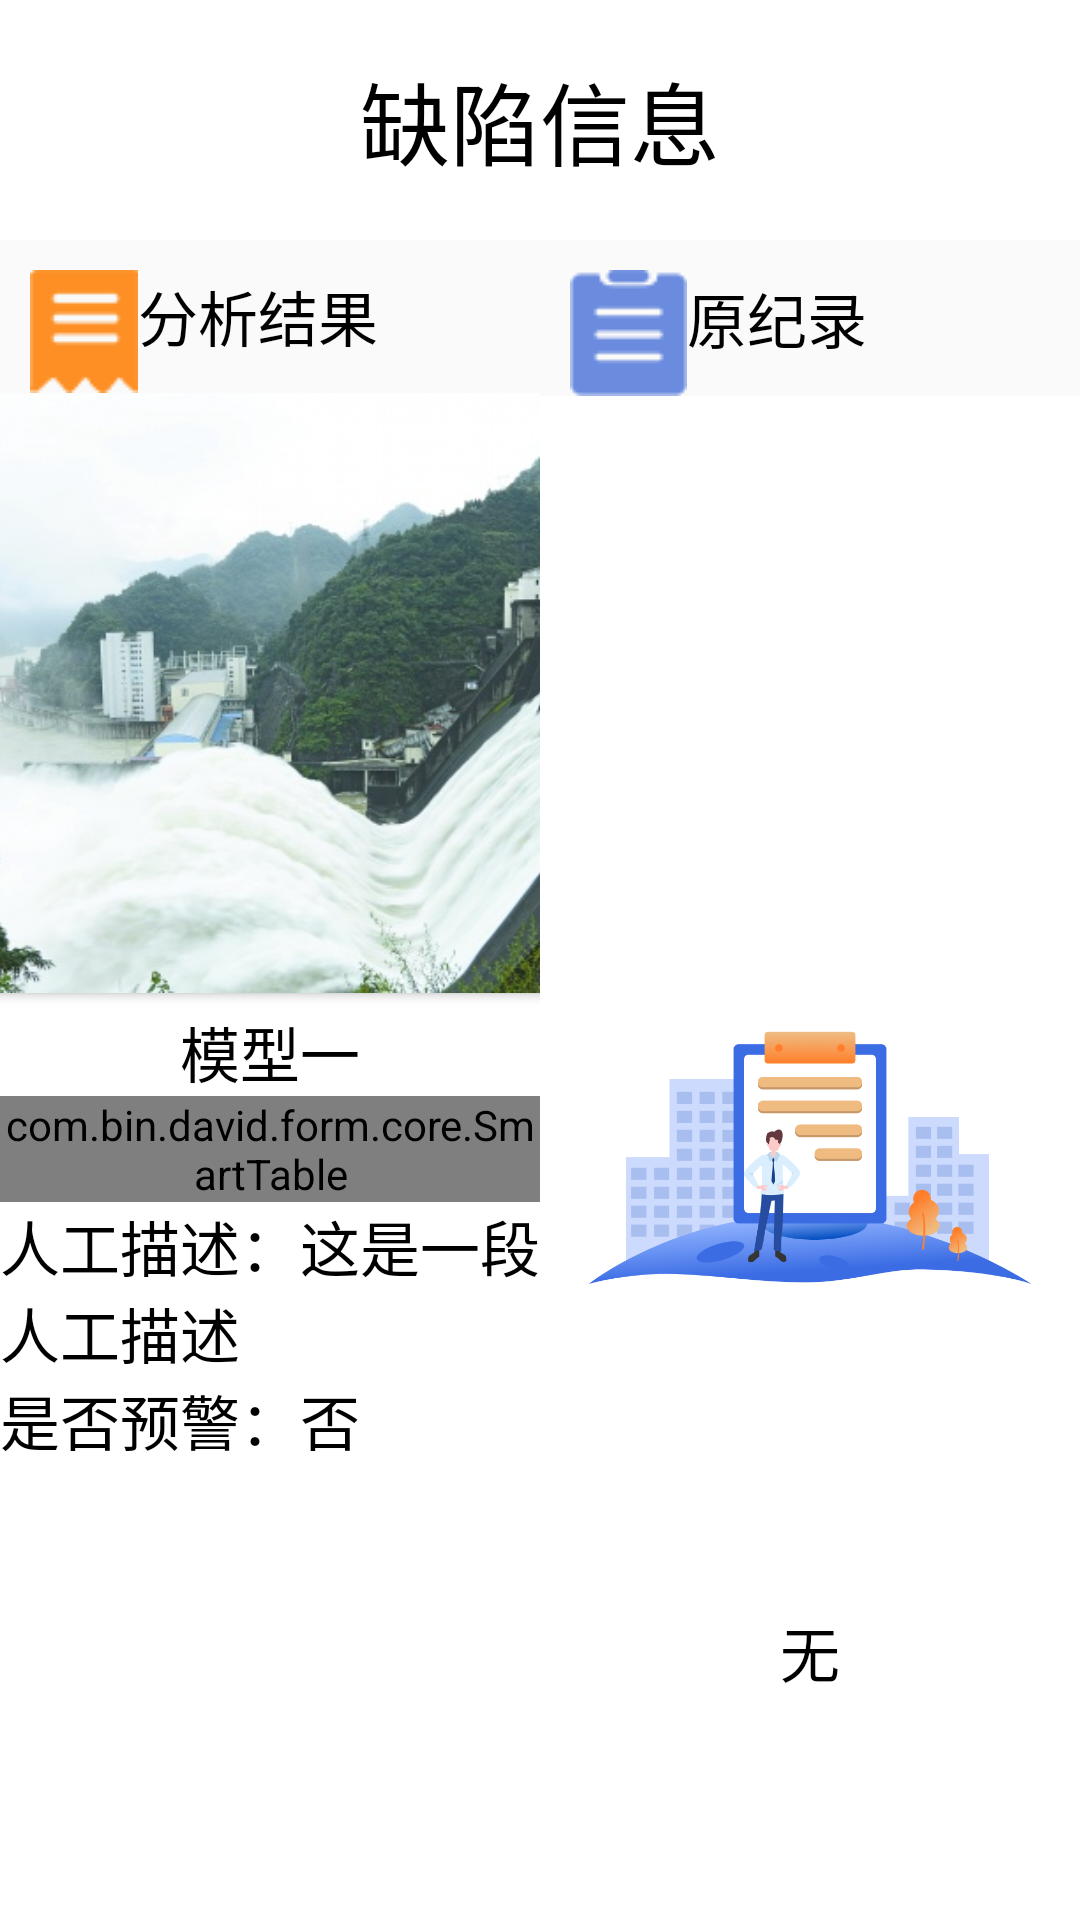

Where to tap for icons on this 1080 × 1920 app screen, as [x,y]:
analysis result: [84,331]
old record: [628,333]
